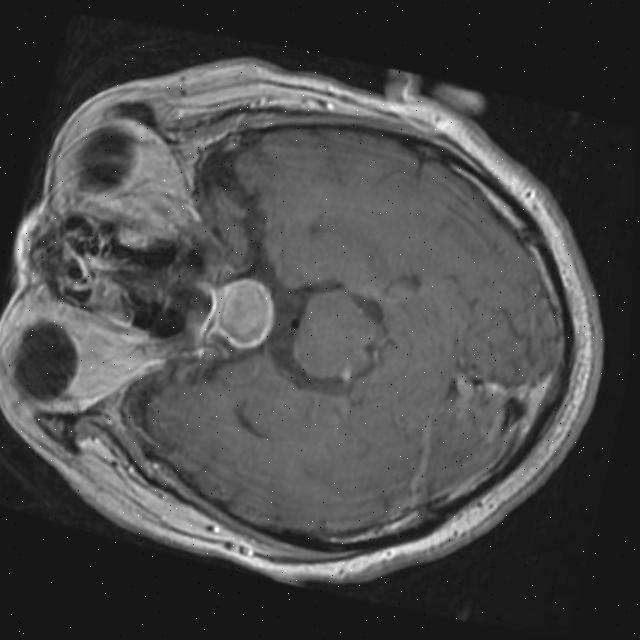Pituitary: (206, 269, 283, 355)
